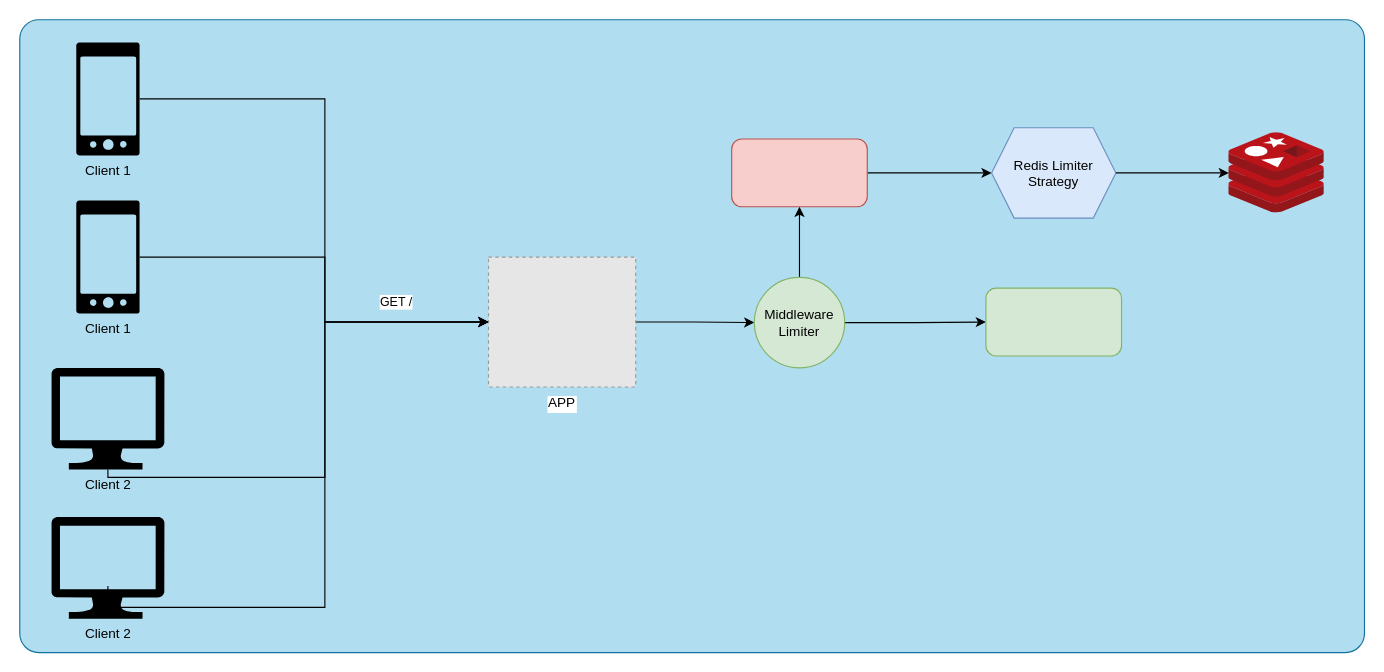
Image size: 1384x672. Some labels were removed from this diagram. Grey dashed boxes stand in for pictures. Here are the shapes that lost their labels. From the top down, the centre of each, then its label:
(x=799, y=172): Rate Limiter
(x=1276, y=172): Redis
(x=1053, y=321): "/" route
